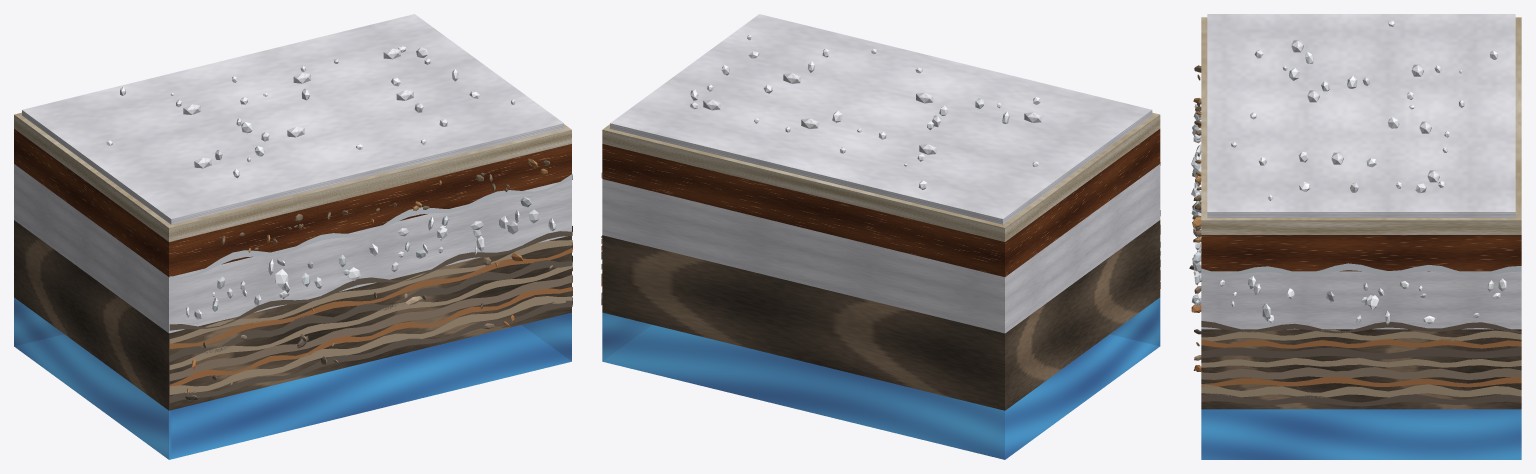
File: inder_zerde_ar.glb
The picture shows the model from 3 angles, left to right: view 1: azimuth 30°, elevation 25°; view 2: azimuth 150°, elevation 25°; view 3: azimuth 270°, elevation 25°; orthographic projection. The views are drawn at different scales.
Visible parts, largest first — view 1: Salt_Crust, 05_Groundwater, 03_Salt_Deposits, 04_Rock, 02_Soil_Clay, 01_Surface, GEO_RockStrata_F_03, GEO_RockStrata_F_01, GEO_RockStrata_F_05, GEO_RockStrata_F_04, GEO_RockStrata_F_00, GEO_RockStrata_F_07 (+4 smaller); view 2: Salt_Crust, 04_Rock, 03_Salt_Deposits, 05_Groundwater, 02_Soil_Clay, 01_Surface; view 3: Salt_Crust, 03_Salt_Deposits, 05_Groundwater, 04_Rock, 02_Soil_Clay, 01_Surface, GEO_RockStrata_S_03, GEO_RockStrata_S_05, GEO_RockStrata_S_01, GEO_RockStrata_S_00, GEO_RockStrata_S_04, GEO_RockStrata_S_07 (+4 smaller).
Boxes of the visible parts, x1,y1,x2,y2 form: Salt_Crust: (22, 14, 563, 224); 05_Groundwater: (14, 297, 571, 459); 03_Salt_Deposits: (14, 164, 571, 333); 04_Rock: (14, 220, 571, 410); 02_Soil_Clay: (14, 129, 571, 277); 01_Surface: (14, 112, 571, 241); GEO_RockStrata_F_03: (169, 274, 572, 380); GEO_RockStrata_F_01: (169, 296, 572, 394); GEO_RockStrata_F_05: (169, 260, 572, 361); GEO_RockStrata_F_04: (169, 265, 572, 369); GEO_RockStrata_F_00: (169, 300, 572, 403); GEO_RockStrata_F_07: (169, 240, 572, 343); Salt_Crust: (610, 14, 1152, 224); 04_Rock: (602, 220, 1160, 410); 03_Salt_Deposits: (602, 164, 1160, 333); 05_Groundwater: (602, 297, 1160, 459); 02_Soil_Clay: (602, 129, 1160, 276); 01_Surface: (602, 112, 1160, 241); Salt_Crust: (1207, 14, 1515, 217); 03_Salt_Deposits: (1201, 271, 1521, 329); 05_Groundwater: (1201, 409, 1521, 459); 04_Rock: (1201, 329, 1521, 409); 02_Soil_Clay: (1201, 235, 1521, 271); 01_Surface: (1201, 17, 1521, 234); GEO_RockStrata_S_03: (1201, 367, 1521, 379); GEO_RockStrata_S_05: (1201, 347, 1521, 359); GEO_RockStrata_S_01: (1201, 384, 1521, 398); GEO_RockStrata_S_00: (1201, 393, 1521, 406); GEO_RockStrata_S_04: (1201, 358, 1521, 367); GEO_RockStrata_S_07: (1201, 329, 1521, 341).
Size of the model in its own units: 6.11 by 3.55 by 4.15.
Materials: 13 (5 with a texture image).
